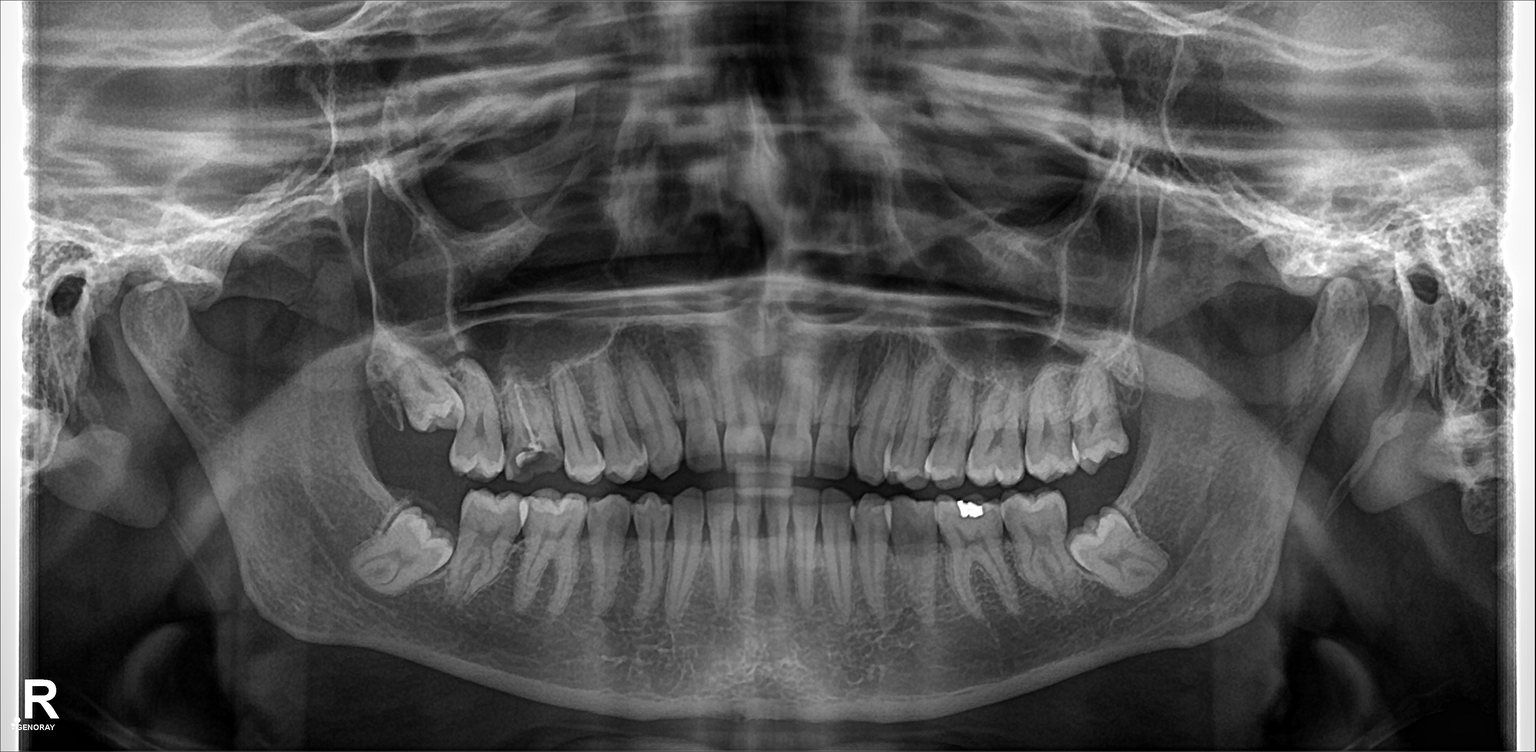Dental Caries: (507, 449, 559, 477)
Endodontically Treated Tooth: (499, 376, 560, 481)
Impacted Third Molar: (372, 352, 462, 432), (1082, 506, 1168, 588), (363, 508, 451, 585)
Missing Tooth: (1114, 367, 1159, 448)
